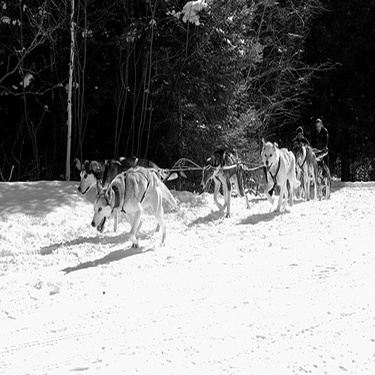dog: (81, 170, 188, 263), (57, 149, 183, 219), (189, 140, 259, 225), (243, 132, 305, 217), (295, 159, 350, 213), (284, 136, 322, 201)
